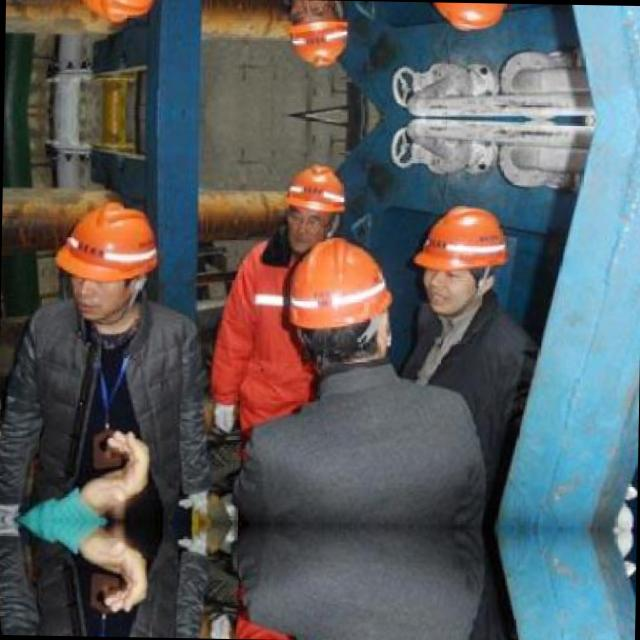helmet: (276, 243, 404, 376), (51, 198, 162, 321), (407, 198, 509, 312), (283, 160, 346, 243), (286, 0, 350, 68), (411, 2, 513, 36), (56, 0, 167, 23)
